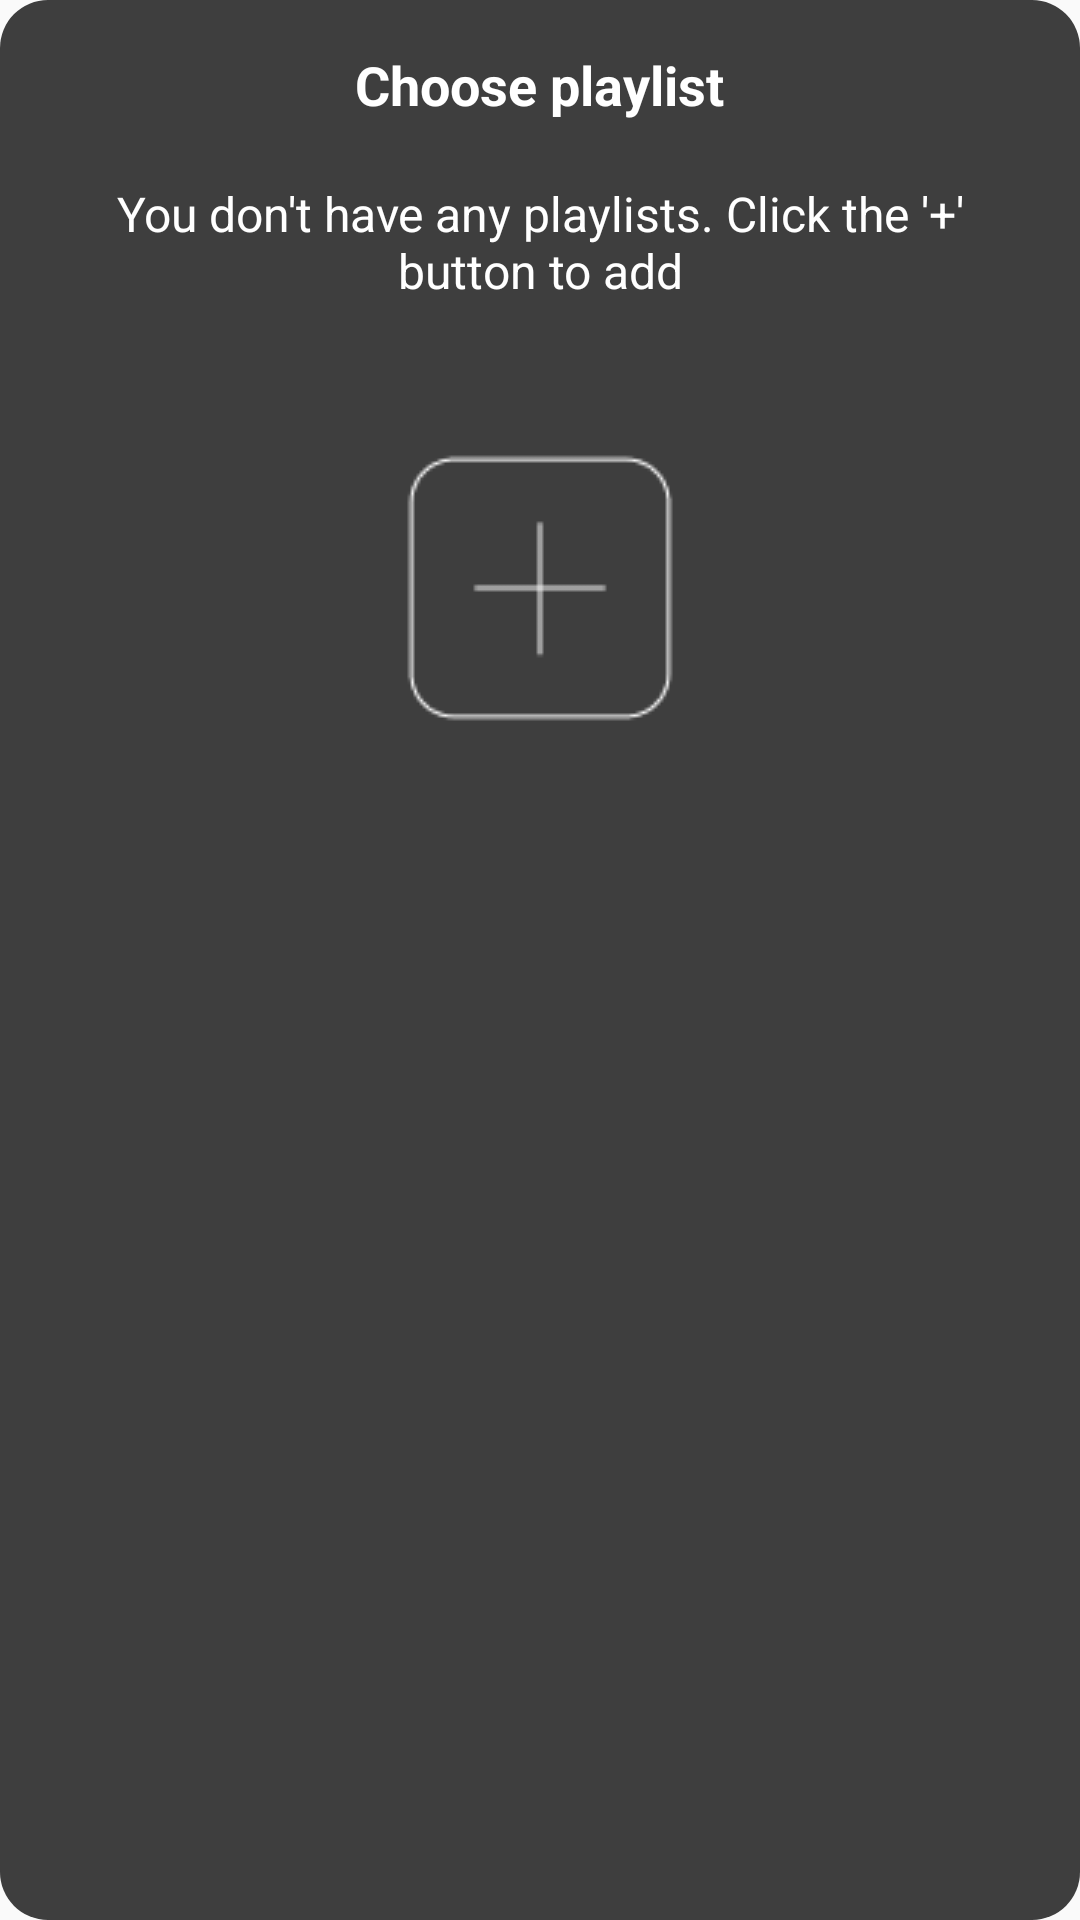

Locate icon controls on the screen. Image size 1080w x 1920h, boxes as (x1, y1, x2, y2).
no playlist add: (408, 456, 672, 720)
